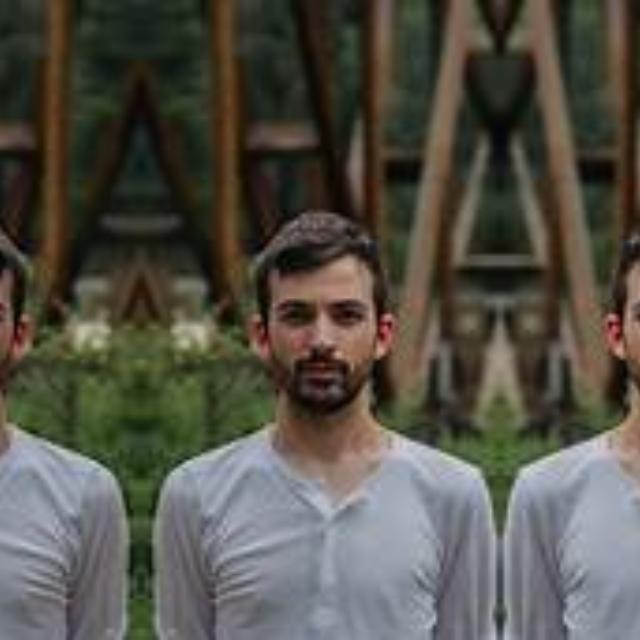person: (183, 211, 499, 640), (499, 211, 640, 640), (0, 211, 97, 640)
